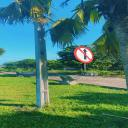NoSeguir: (74, 45, 95, 65)
